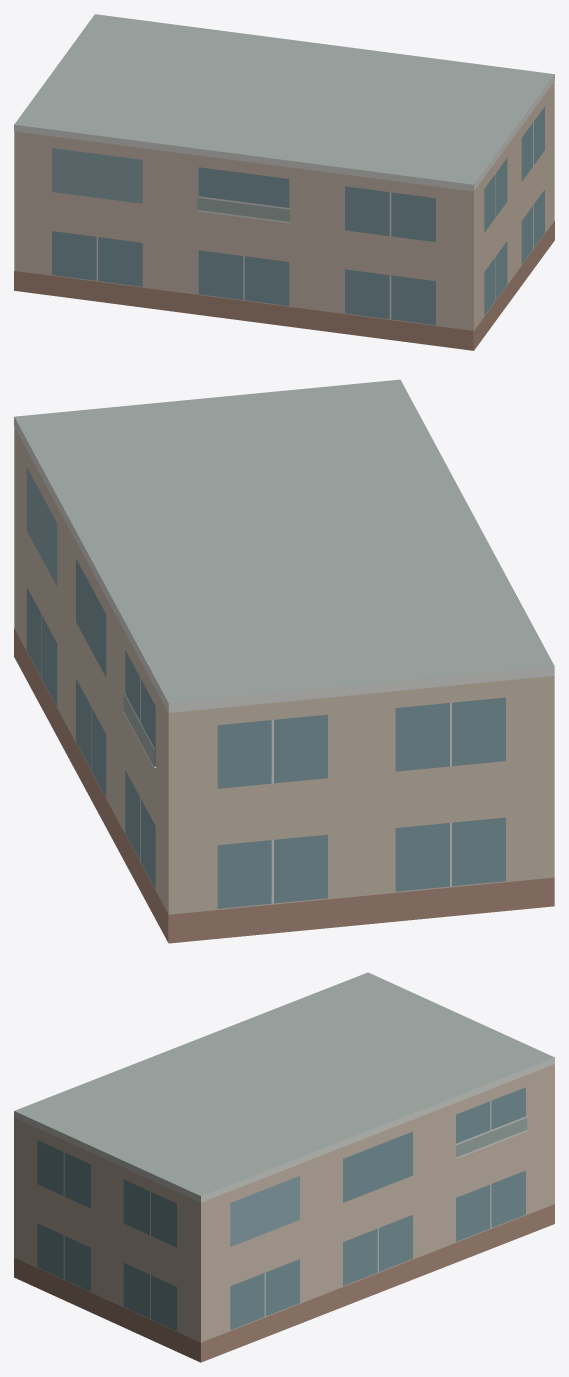
File: residential-4f8902c2-2f7f-43ee-9ece-73807f52d125.glb
The picture shows the model from 3 angles, top to bottom: view 1: azimuth 30°, elevation 25°; view 2: azimuth 150°, elevation 25°; view 3: azimuth 270°, elevation 25°; orthographic projection. The views are drawn at different scales.
Parts seen in each view (by area): view 1: residential-4f8902c2-2f7f-43ee-9ece-73807f52d125.tmp; view 2: residential-4f8902c2-2f7f-43ee-9ece-73807f52d125.tmp; view 3: residential-4f8902c2-2f7f-43ee-9ece-73807f52d125.tmp.
Part boxes in pixels (<box>): residential-4f8902c2-2f7f-43ee-9ece-73807f52d125.tmp: <box>14,14,554,350</box>; residential-4f8902c2-2f7f-43ee-9ece-73807f52d125.tmp: <box>14,379,554,943</box>; residential-4f8902c2-2f7f-43ee-9ece-73807f52d125.tmp: <box>14,972,554,1362</box>.
Size of the model in its own units: 17.59 by 6.1 by 17.96.
